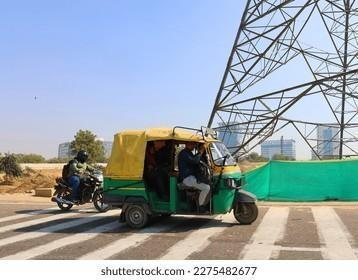keke: (98, 120, 260, 234)
